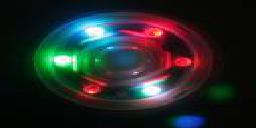LED: (47, 49, 83, 73), (81, 22, 114, 45), (164, 52, 198, 73), (79, 77, 108, 96), (140, 23, 165, 44)
